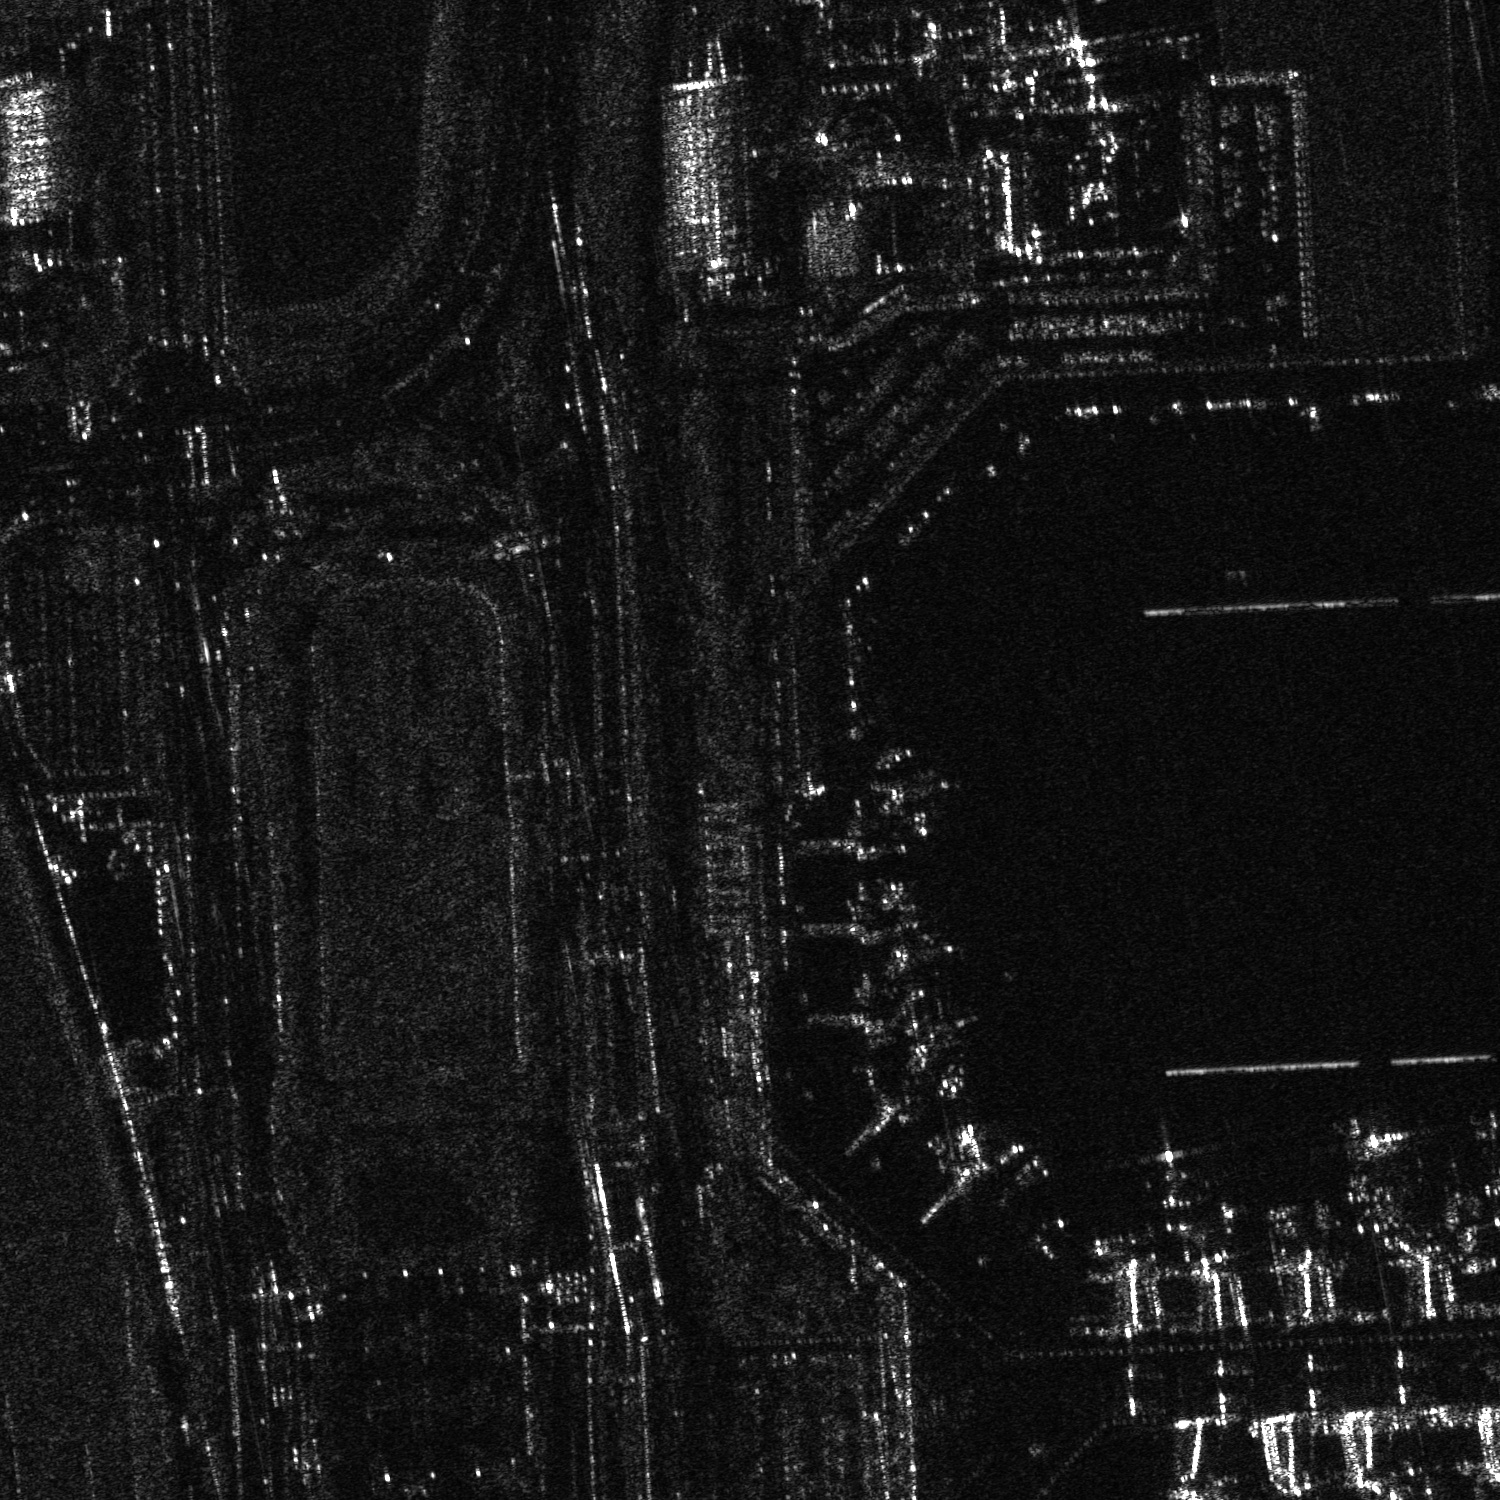A220: (841, 740, 962, 849), (857, 911, 964, 990), (1136, 1136, 1201, 1188)
A320/321: (1338, 1114, 1415, 1173)
